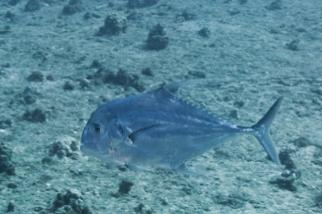Carangidae -Jacks-: (69, 70, 287, 184)
